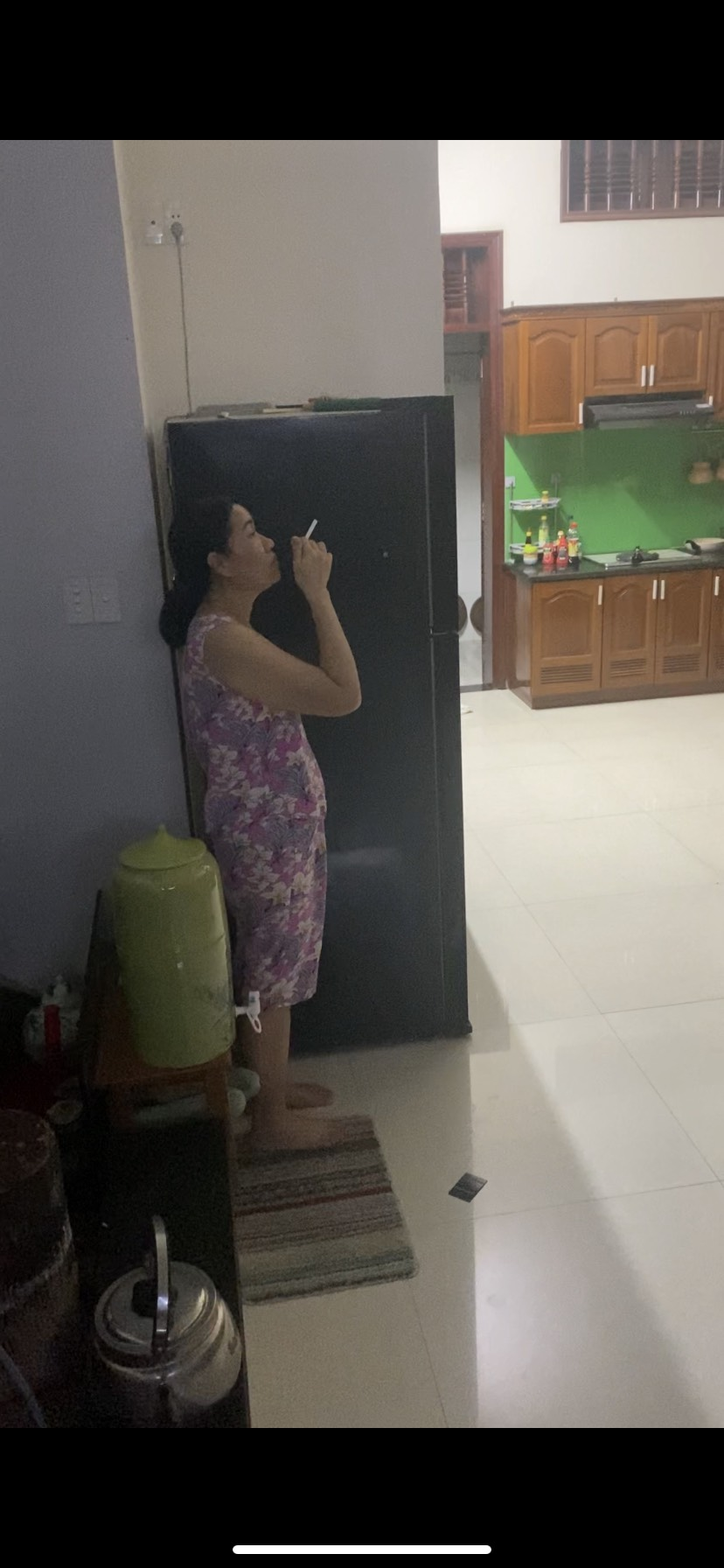cigarette: (303, 515, 322, 540)
